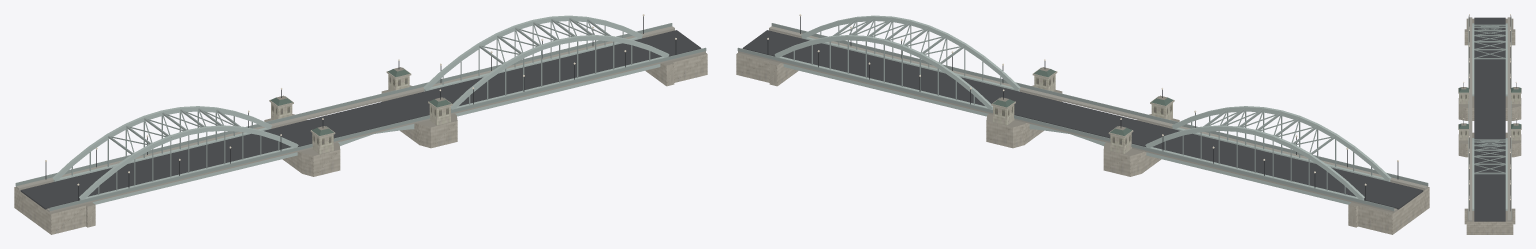
File: kachidoki_bridge.glb
The picture shows the model from 3 angles, left to right: view 1: azimuth 30°, elevation 25°; view 2: azimuth 150°, elevation 25°; view 3: azimuth 270°, elevation 25°; orthographic projection. The views are drawn at different scales.
Visible parts, largest first — view 1: kachidoki_bridge; view 2: kachidoki_bridge; view 3: kachidoki_bridge.
Boxes of the visible parts, left/top/right/bottom form: kachidoki_bridge: left=14, top=14, right=707, bottom=234; kachidoki_bridge: left=736, top=14, right=1429, bottom=234; kachidoki_bridge: left=1458, top=14, right=1521, bottom=234.
Bounding box in the file's own units: 246 × 23.63 × 32.4.
Materials: 2 (2 with a texture image).
